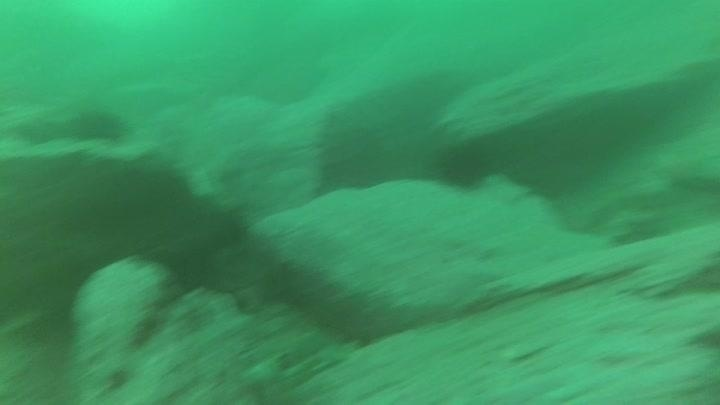echinus: (433, 139, 494, 191), (71, 105, 130, 146)
